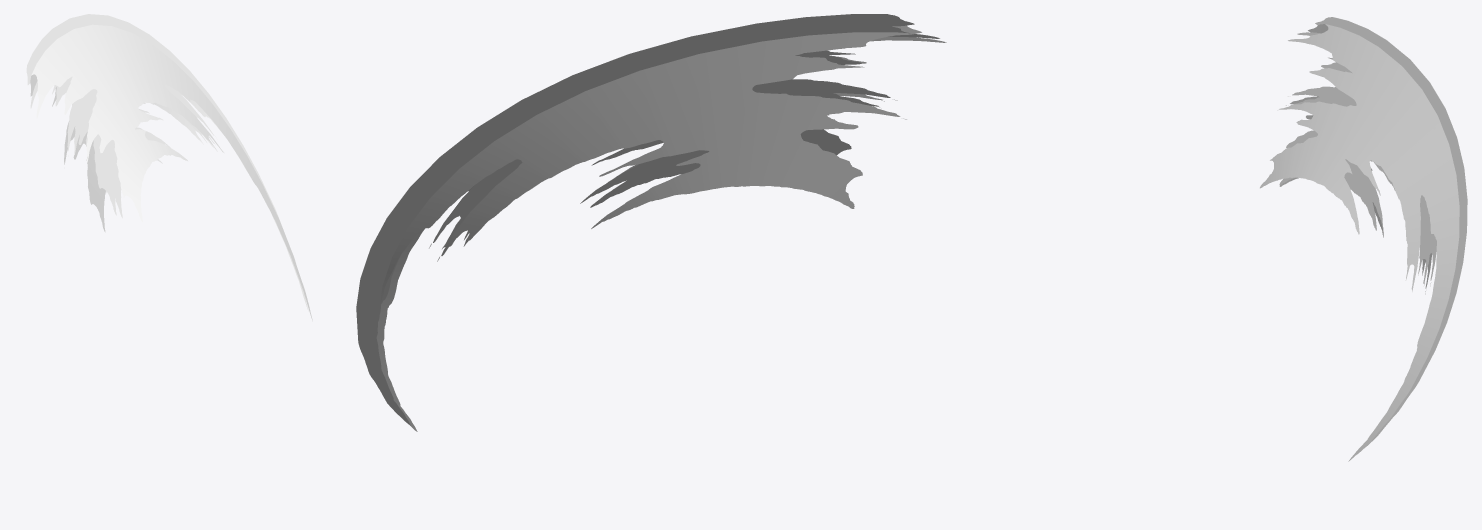
The model's file is fx_cookie0511_front_skill01.fbx.
The picture shows the model from 3 angles, left to right: view 1: azimuth 30°, elevation 25°; view 2: azimuth 150°, elevation 25°; view 3: azimuth 270°, elevation 25°; orthographic projection. The views are drawn at different scales.
Visible parts, largest first — view 1: L_scratch2_alpha, L_scratch1_add; view 2: L_scratch2_alpha, L_scratch1_add; view 3: L_scratch2_alpha, L_scratch1_add.
Part boxes in pixels (x1,y1,x2,y2): L_scratch2_alpha: [30, 24, 312, 321]; L_scratch1_add: [26, 14, 308, 311]; L_scratch2_alpha: [376, 25, 946, 431]; L_scratch1_add: [356, 14, 939, 425]; L_scratch2_alpha: [1260, 24, 1459, 461]; L_scratch1_add: [1279, 17, 1467, 453].
Size of the model in its own units: 519 by 564 by 376.
Materials: 2 (2 with a texture image).
